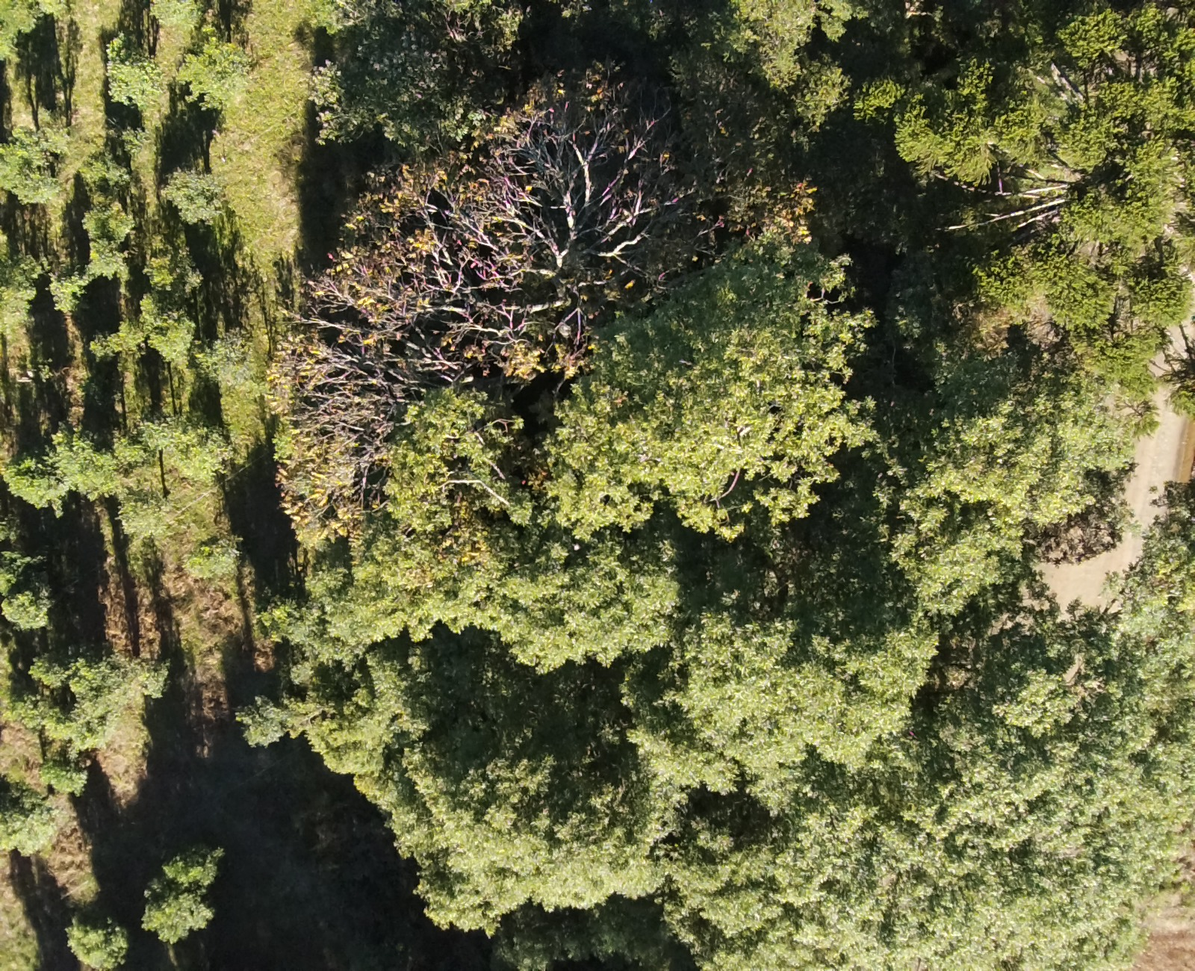erva: (170, 40, 258, 117), (43, 421, 114, 513), (81, 34, 163, 111), (155, 152, 231, 235), (130, 879, 218, 946), (61, 907, 135, 970), (0, 229, 47, 320), (1, 447, 58, 521), (151, 846, 230, 896), (174, 418, 238, 476), (0, 152, 63, 209), (0, 798, 57, 860), (1, 575, 60, 631), (5, 689, 60, 746), (34, 754, 94, 804), (74, 196, 139, 238), (135, 406, 179, 462), (72, 242, 137, 279), (43, 265, 94, 311), (20, 108, 69, 154), (130, 287, 182, 330), (24, 646, 75, 688), (158, 318, 200, 368)
